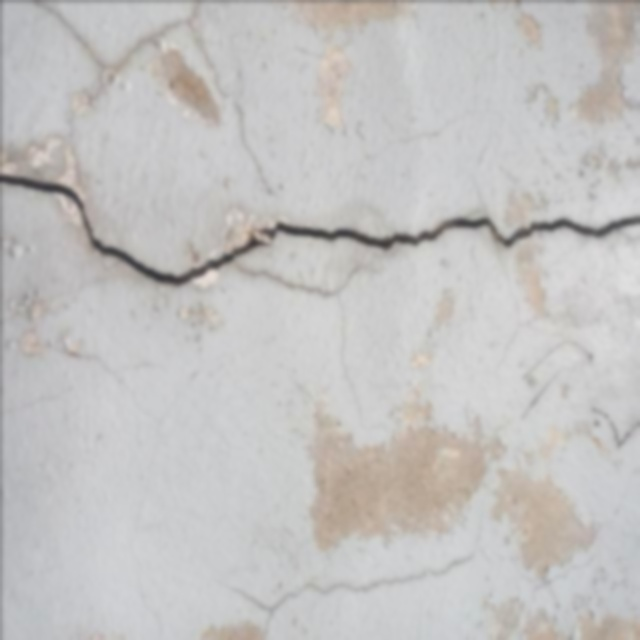SurfaceCrack: (198, 535, 487, 640)
